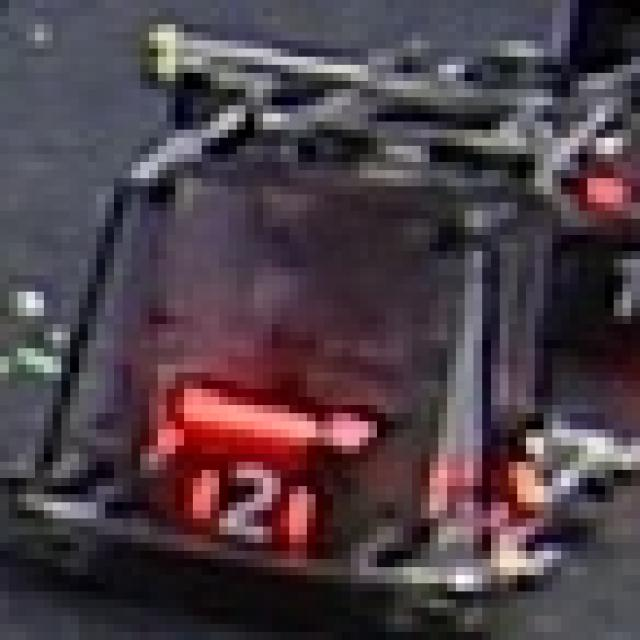R2: (184, 445, 316, 551)
